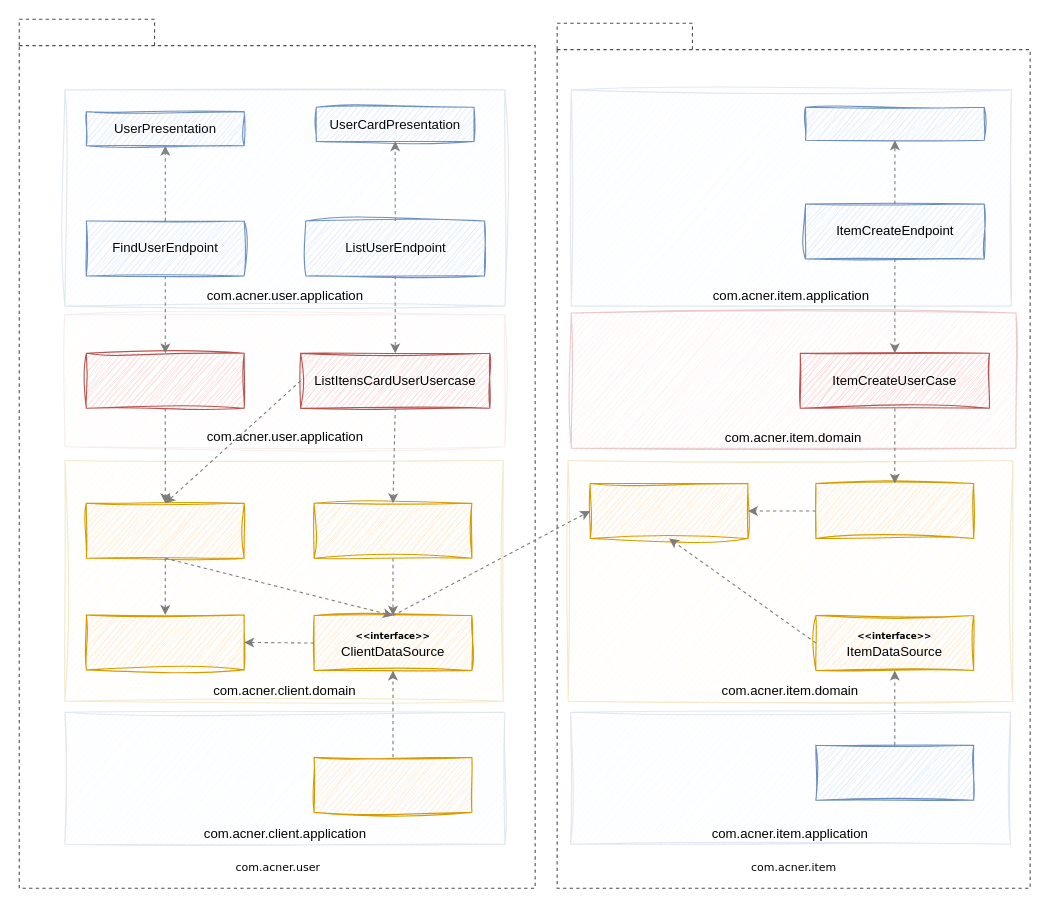
Image size: 1049x908. Some labels were removed from this diagram. Each missing label, with the centre of its shape:
"Client" goes at [164,642].
"ClientSourceInMe" goes at [392,784].
"FindClientService" goes at [164,530].
"FindUserUserCase" goes at [164,380].
"Item" goes at [668,510].
"ItemCommandRequest" goes at [894,123].
"ItemCreateService" goes at [894,510].
"ItemSourceInMe" goes at [894,772].
"ListItensCardUsercase" goes at [392,530].
